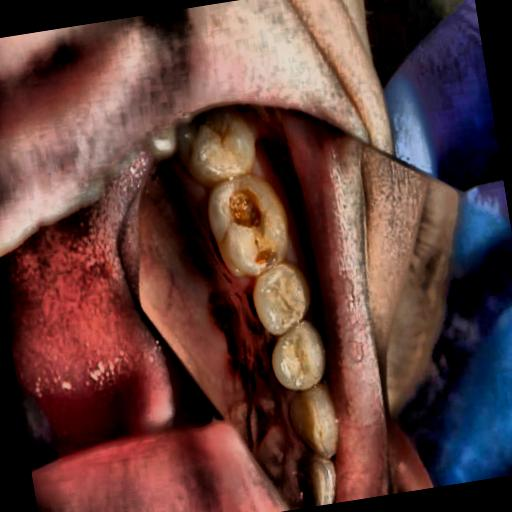Caries: (218, 163, 295, 276)
